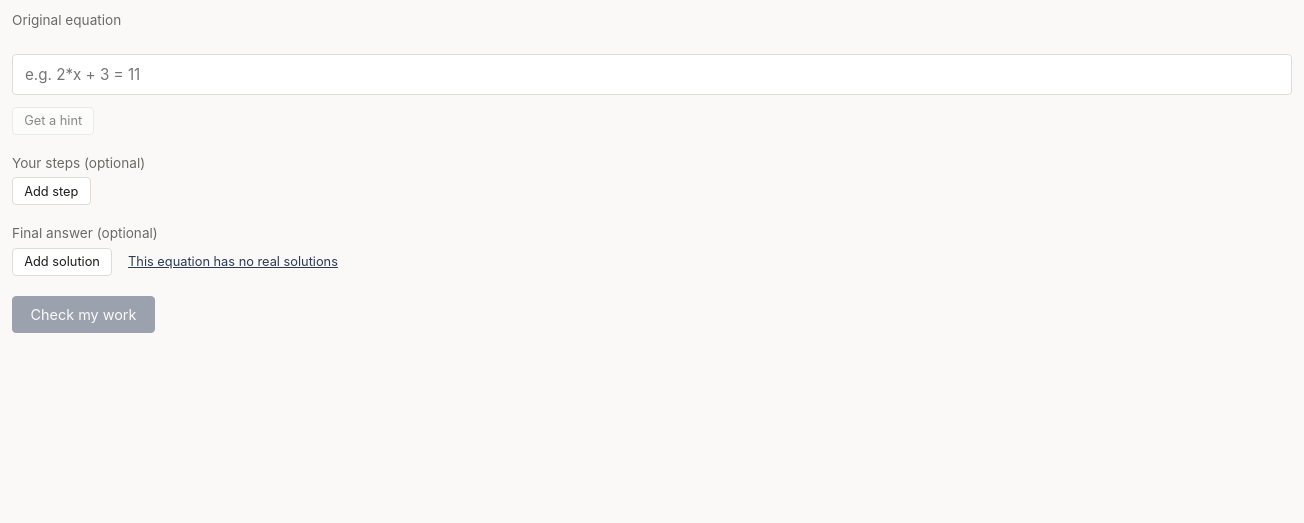
Scenario: CheckWorkForm › submits the equation, steps, and omits solutions by default
Type "2*x + 3 = 11" into the field labelled "Original equation". click: (652, 74)
box: [12,54,1292,95]
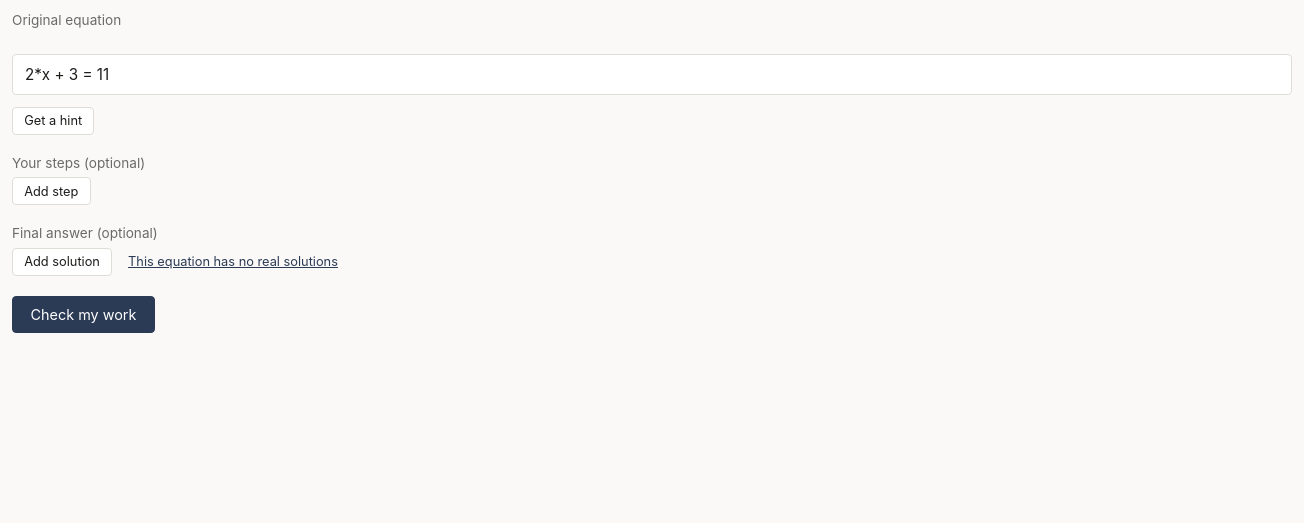
Click the button "Add step". click: (51, 191)
box: [12,177,91,205]
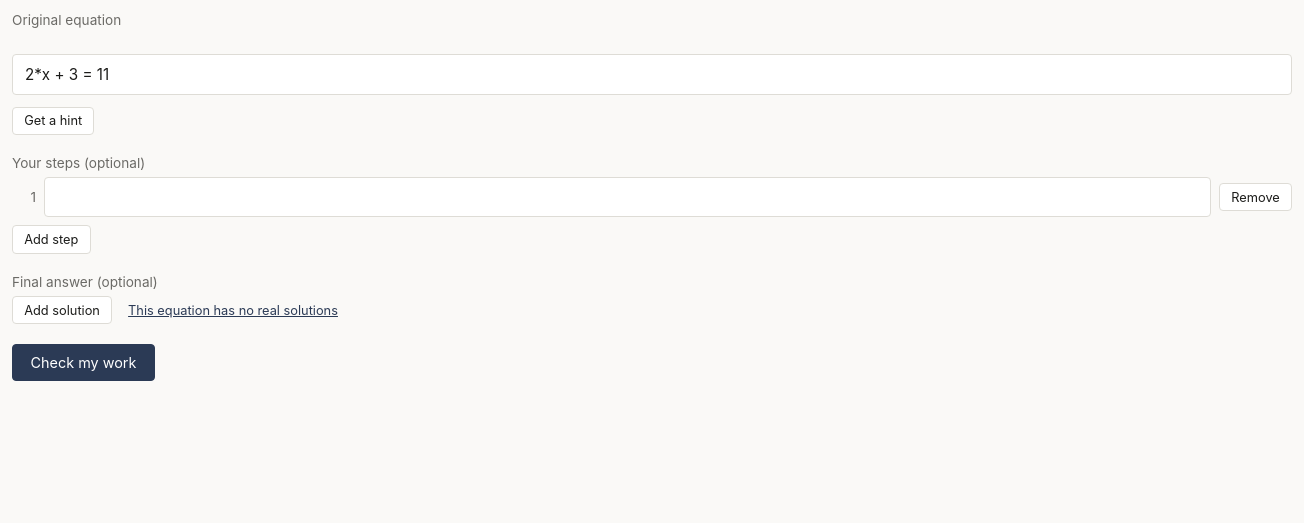
Type "2*x = 8" into the field named "Step 1". click: (628, 197)
box: [44,177,1211,217]
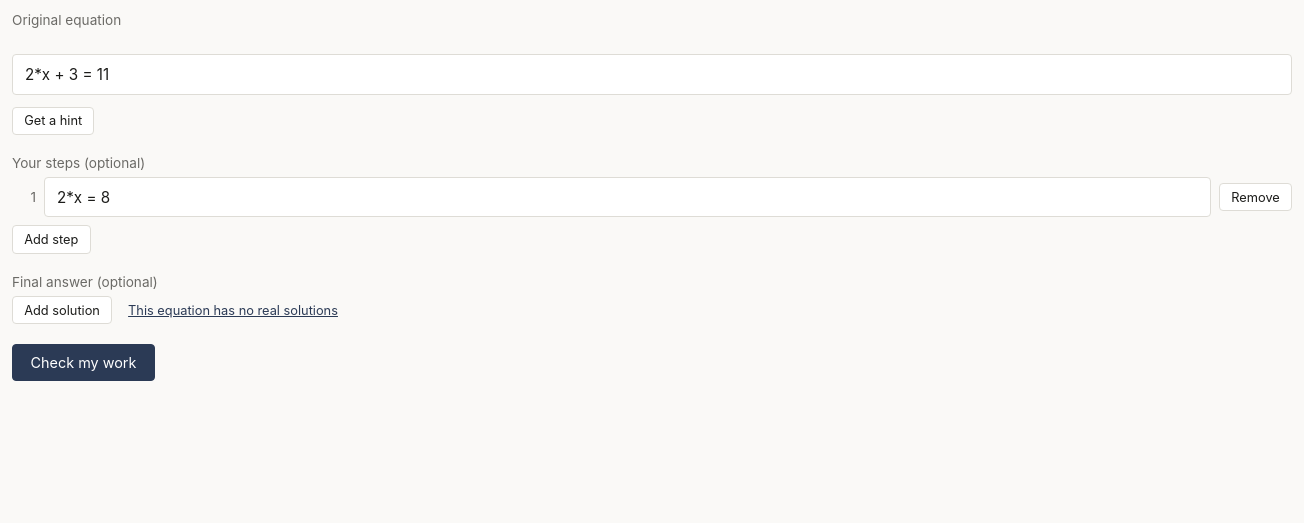
Click the button "Check my work". click: (84, 362)
box: [12,344,155,381]
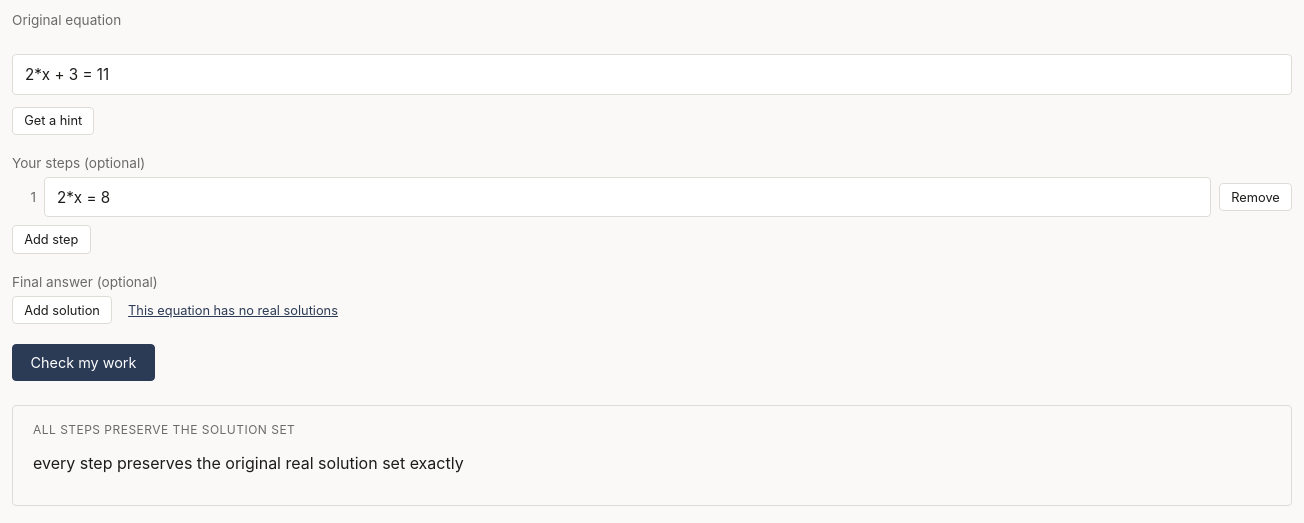
Expected: the text "All steps preserve the solution set" is shown, [33,422,295,437]
